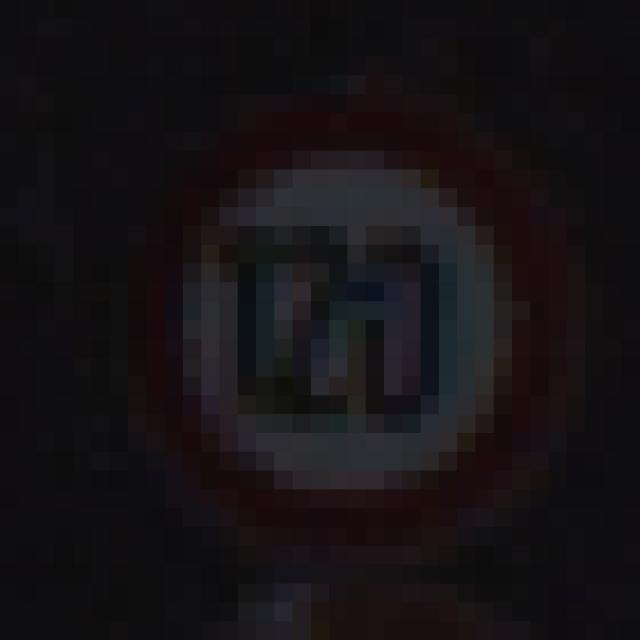Ograniczenie predkosci do 120: (128, 100, 556, 564)
